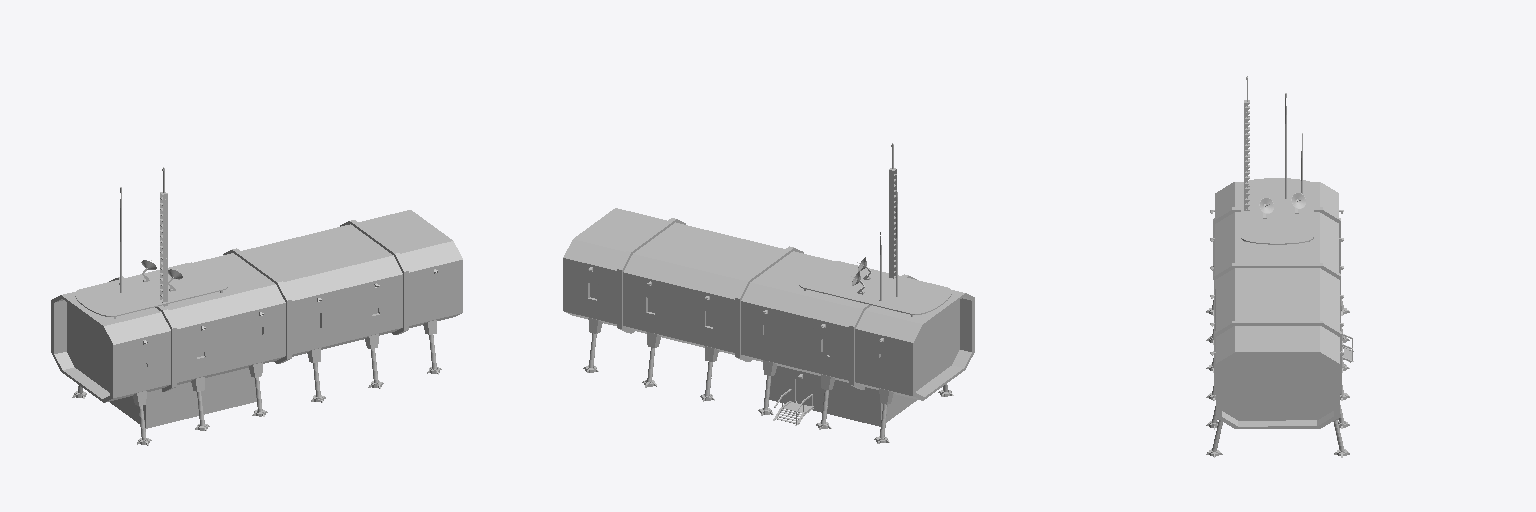
The model's file is Antarctic base.obj.
The picture shows the model from 3 angles: view 1: azimuth 30°, elevation 25°; view 2: azimuth 150°, elevation 25°; view 3: azimuth 270°, elevation 25°; orthographic projection.
Parts seen in each view (by area): view 1: Base_Cube.010; view 2: Base_Cube.010; view 3: Base_Cube.010.
Boxes of the visible parts, <box> form: Base_Cube.010: <box>51,167,462,445</box>; Base_Cube.010: <box>563,143,974,443</box>; Base_Cube.010: <box>1206,76,1353,457</box>.
Bounding box in the file's own units: 0.6912 × 0.4797 × 0.2539.